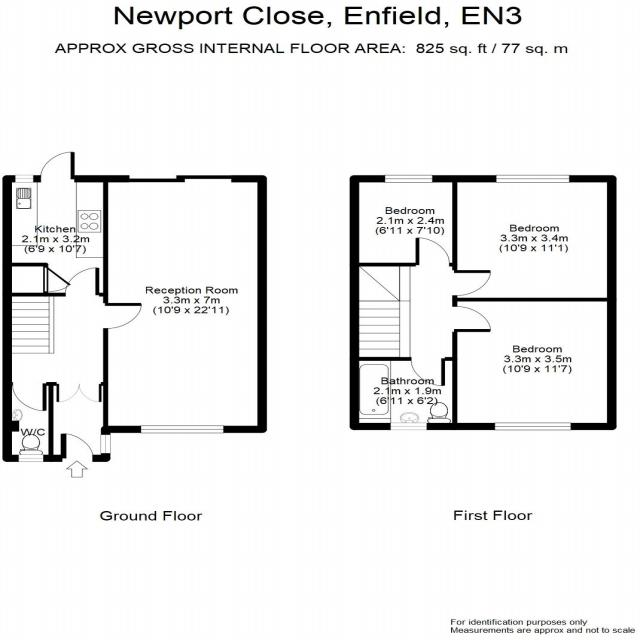DOOR: (63, 267, 101, 297), (40, 152, 76, 183), (414, 237, 451, 267), (451, 306, 492, 333), (410, 357, 446, 387), (452, 269, 492, 296), (103, 302, 142, 329), (12, 382, 47, 411), (60, 433, 94, 462)
ROOM: (101, 175, 268, 433), (452, 297, 617, 430), (452, 175, 617, 302), (2, 152, 108, 297), (349, 175, 457, 267)
SLIDING DOOR: (127, 175, 235, 183)
WINDOW: (140, 425, 225, 434), (494, 422, 572, 431), (496, 175, 570, 183), (384, 175, 433, 183), (390, 422, 428, 430), (100, 434, 111, 454), (17, 454, 44, 462), (14, 175, 34, 183)
